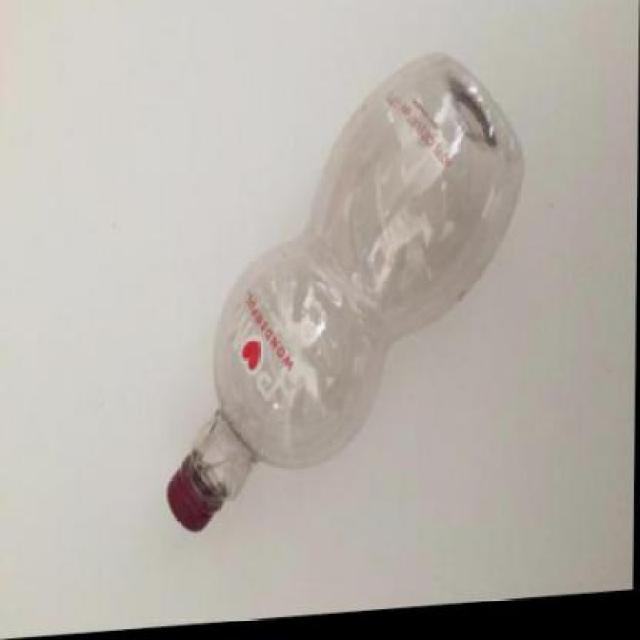Plastic: (163, 48, 526, 537)
